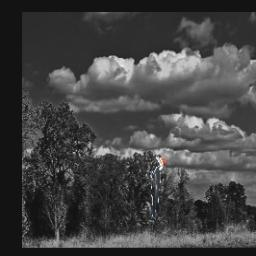Woodpecker: (150, 155, 166, 222)
